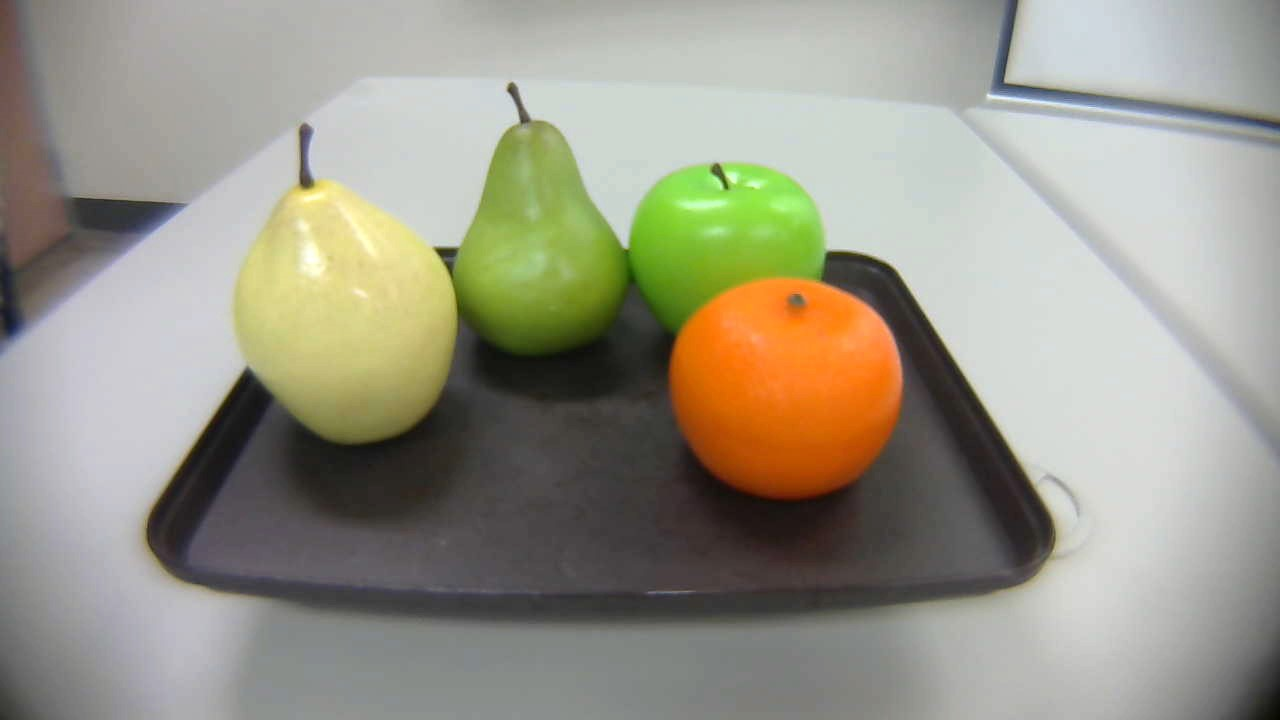green apple: (617, 159, 827, 341)
green pear: (453, 78, 630, 353)
orange: (663, 259, 902, 498)
western pear: (232, 126, 465, 451)
